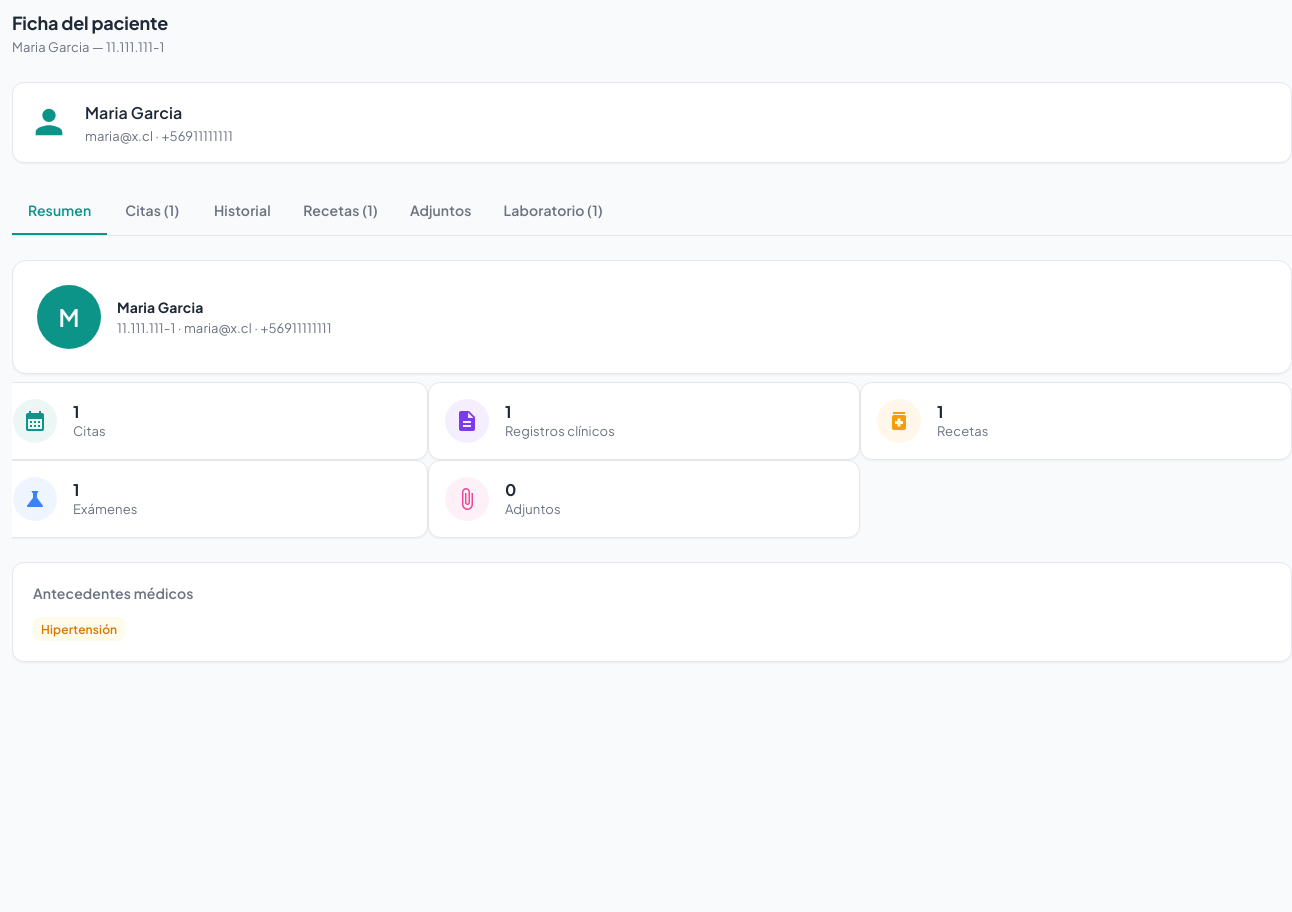
Scenario: DoctorPatientHistoryPage › shows patient bookings in the citas tab
The image size is (1292, 912).
Expected: the 1st heading "Maria Garcia" is shown, [85,102,182,123]
What coordinates should you click on to do the following:
click the tab "Citas (1)"
I would click on:
 (152, 211)
Its box is [107,187,197,235].
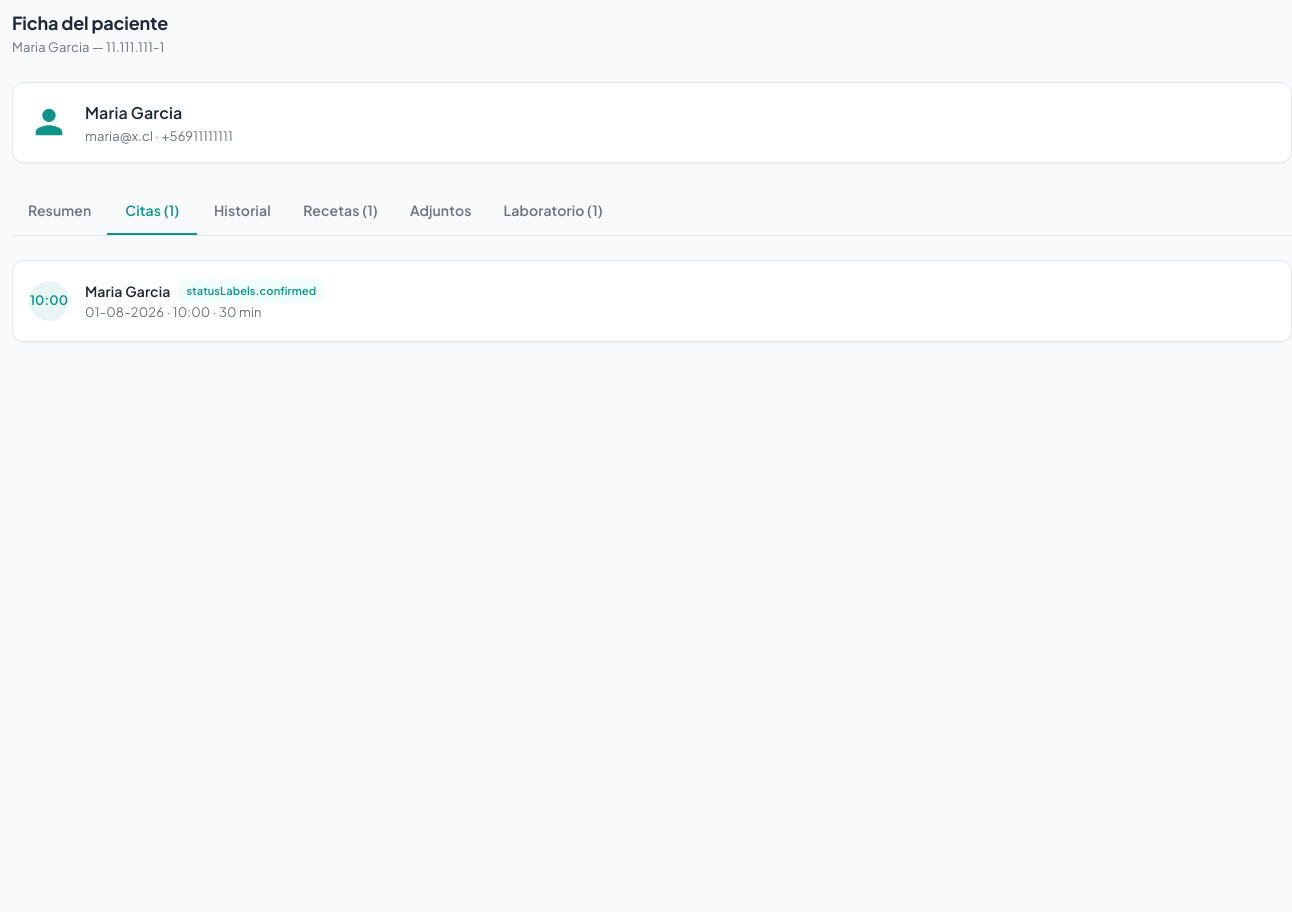
Expected: the text "10:00" is shown, [29,281,69,321]
